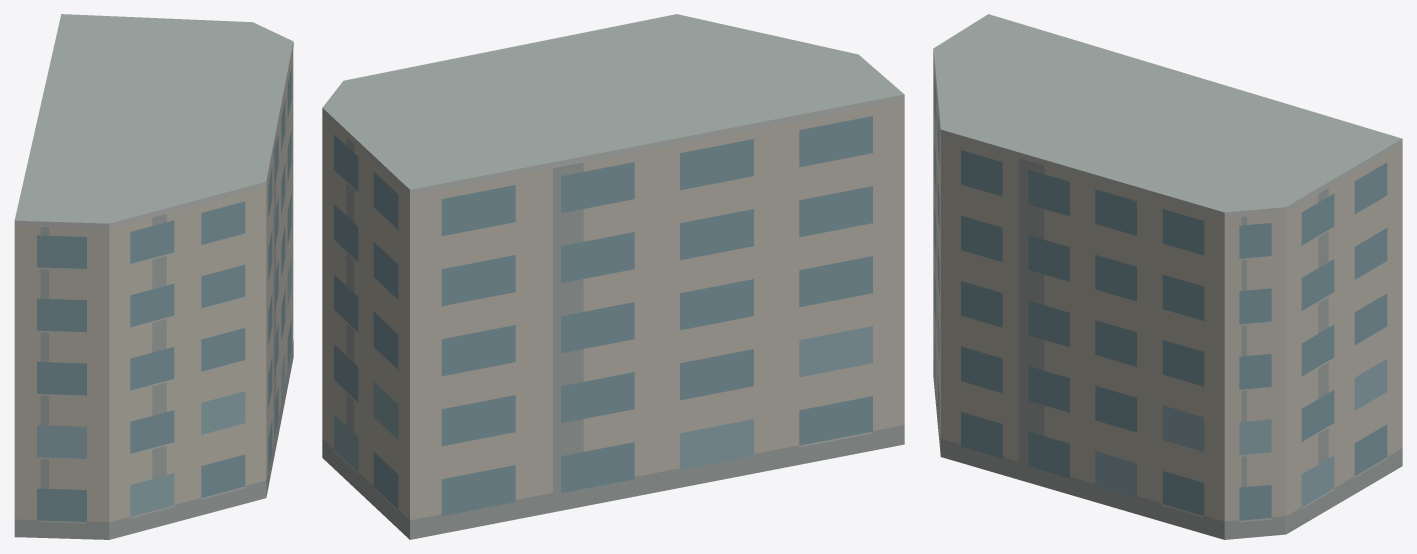
File: survey-upis-32800299.glb
3 renders of one model, left to right at view 1: azimuth 30°, elevation 25°; view 2: azimuth 150°, elevation 25°; view 3: azimuth 270°, elevation 25°, orthographic. The views are drawn at different scales.
Parts seen in each view (by area): view 1: survey-upis-32800299.tmp; view 2: survey-upis-32800299.tmp; view 3: survey-upis-32800299.tmp.
Boxes of the visible parts, x1,y1,x2,y2 form: survey-upis-32800299.tmp: [14, 14, 293, 539]; survey-upis-32800299.tmp: [322, 14, 904, 539]; survey-upis-32800299.tmp: [933, 14, 1402, 539].
Bounding box in the file's own units: 17.82 × 13.7 × 17.8.
